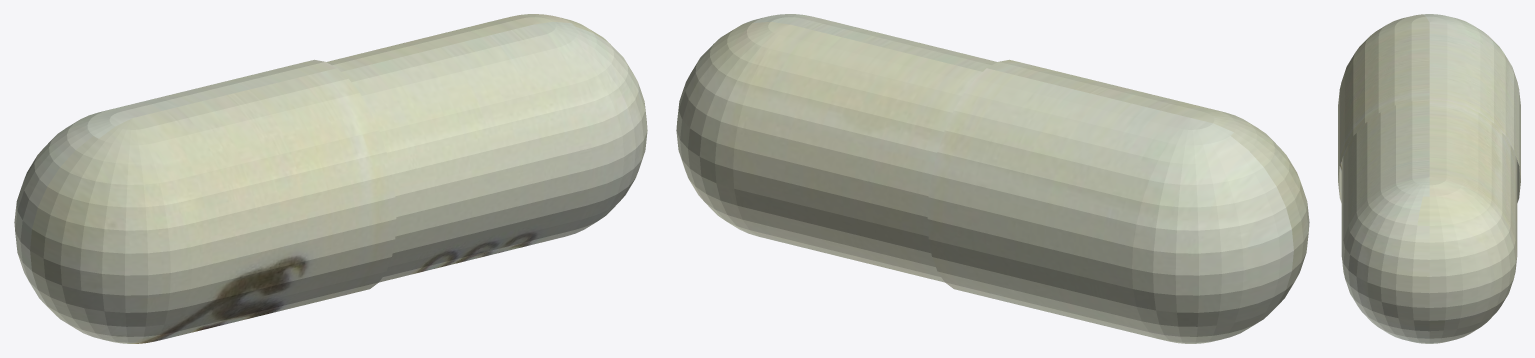
3 renders of one model, left to right at view 1: azimuth 30°, elevation 25°; view 2: azimuth 150°, elevation 25°; view 3: azimuth 270°, elevation 25°, orthographic. The views are drawn at different scales.
Visible parts, largest first — view 1: 球體; view 2: 球體; view 3: 球體.
Part boxes in pixels (<box>): 球體: <box>14,14,647,343</box>; 球體: <box>676,14,1309,343</box>; 球體: <box>1338,14,1520,343</box>.
Bounding box in the file's own units: 2.93 × 1 × 1.
